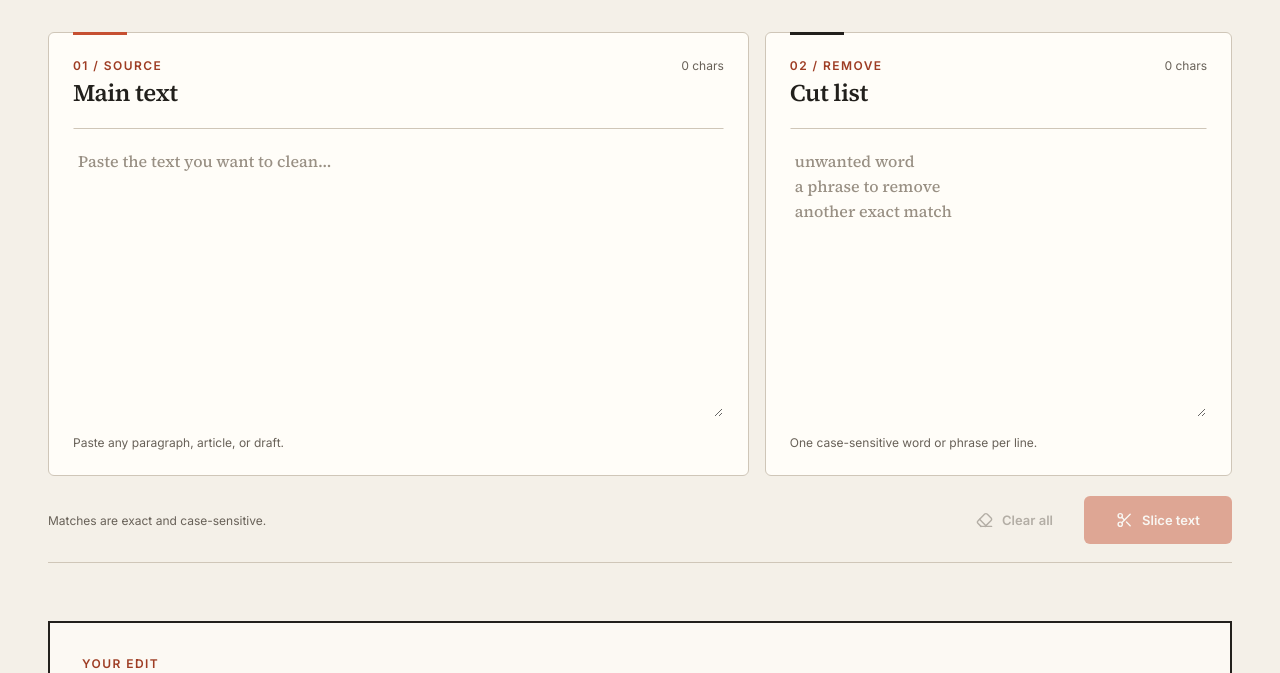
Test case: Text Slicer app › slices text and renders statistics
The image size is (1280, 673).
(page scrolled)
Step 1. Type "one two one" into the text box named "Main text" → coordinates (398, 273), box [73,128,724,418]
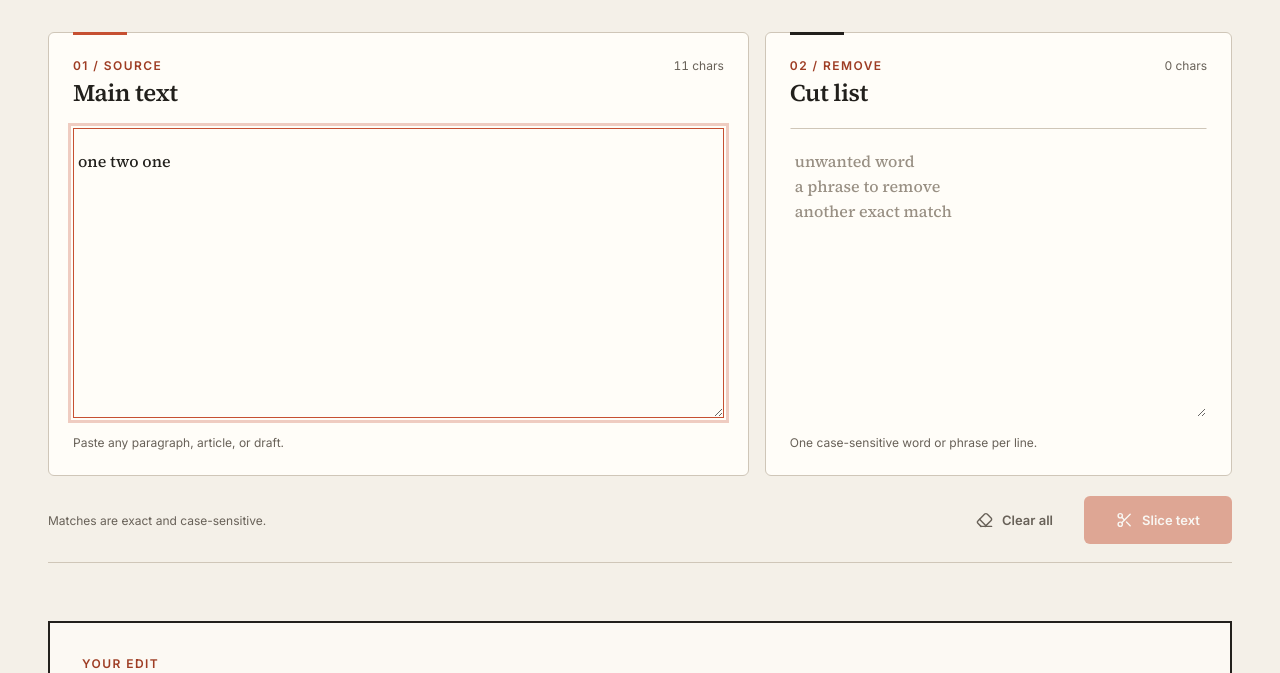
Step 2. Type "one" into the text box named "Cut list" → coordinates (998, 273), box [790,128,1207,418]
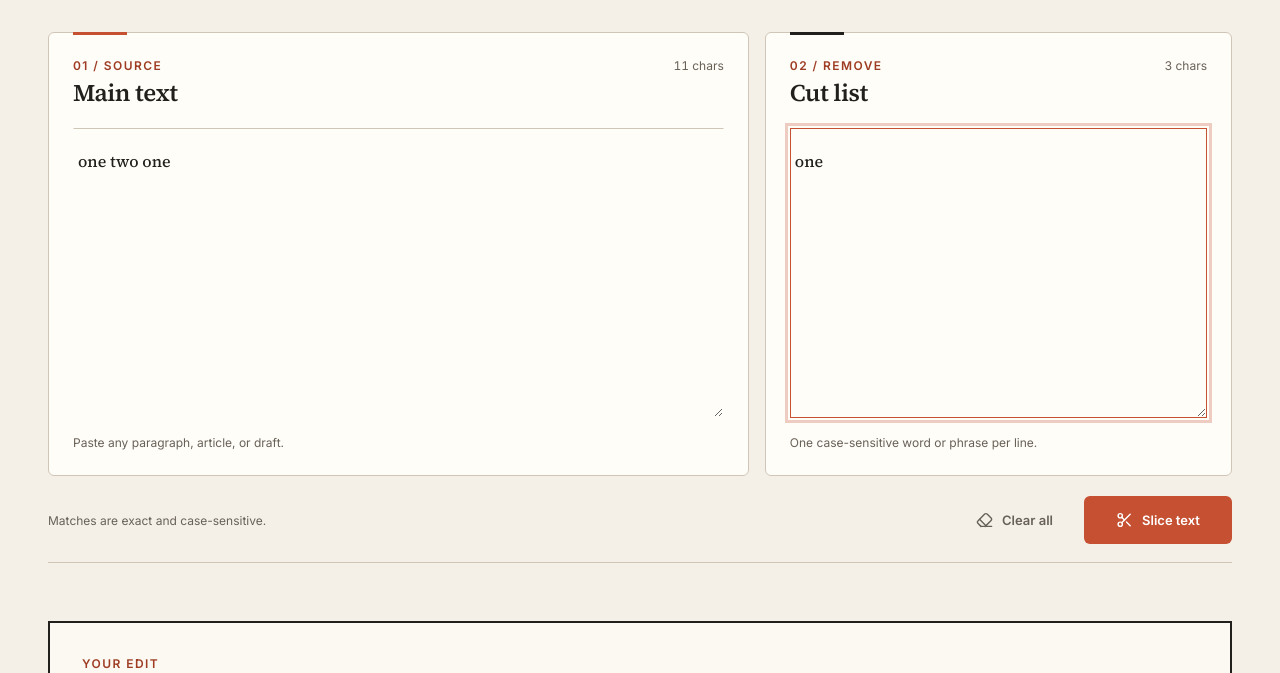
Step 3. Click the button "Slice text" → coordinates (1158, 520), box [1084,496,1232,544]
(page scrolled)
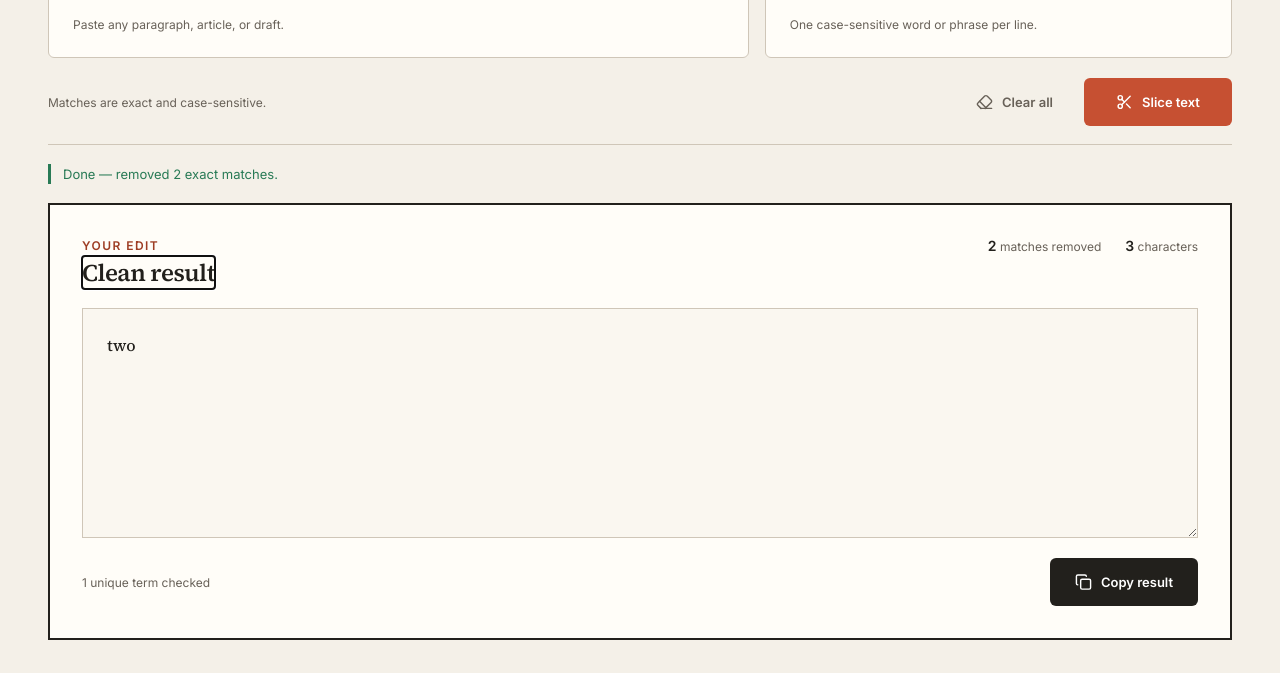
expect the text box named "Edited text" below "Clean result" holds "two": met, box [82,308,1198,538]
expect the text "2" is shown: met, box [988,237,996,254]
expect the text "Done — removed 2 exact matches." is shown: met, box [48,164,278,184]
